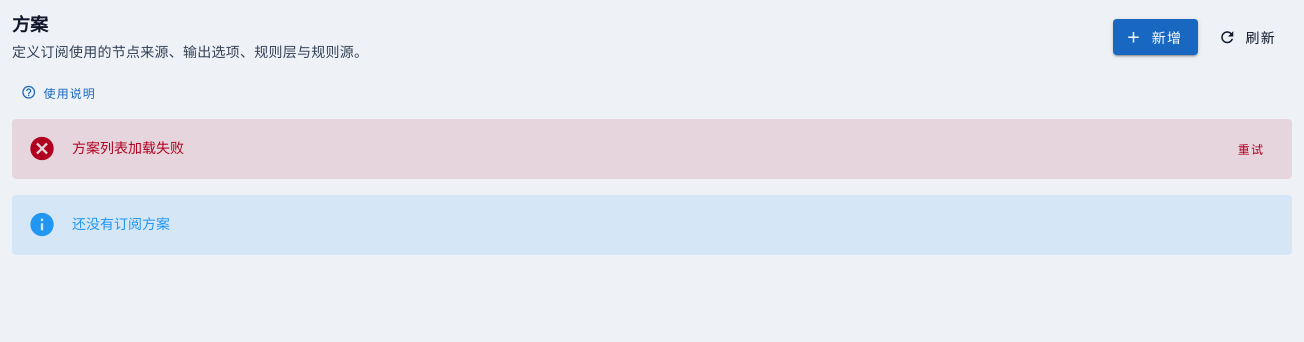
Test case: ProfilesPage › 加载失败：显示错误并可重试
Expected: the message "方案列表加载失败 重试" is shown, left=12, top=119, right=1292, bottom=179
What coordinates should you click on to do the following:
click the button with test id "async-retry"
I would click on:
 (1250, 149)
Its box is left=1225, top=135, right=1276, bottom=163.
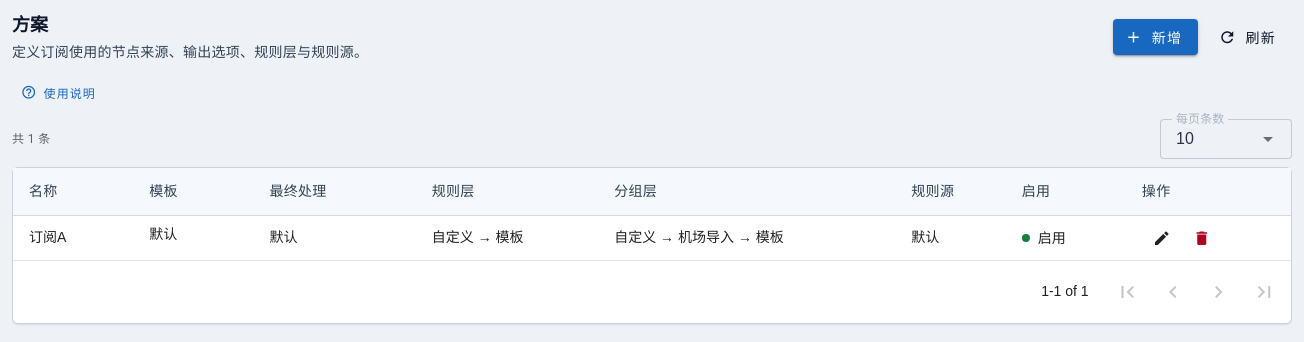
Now the text "订阅A" is shown, box left=29, top=229, right=66, bottom=245
